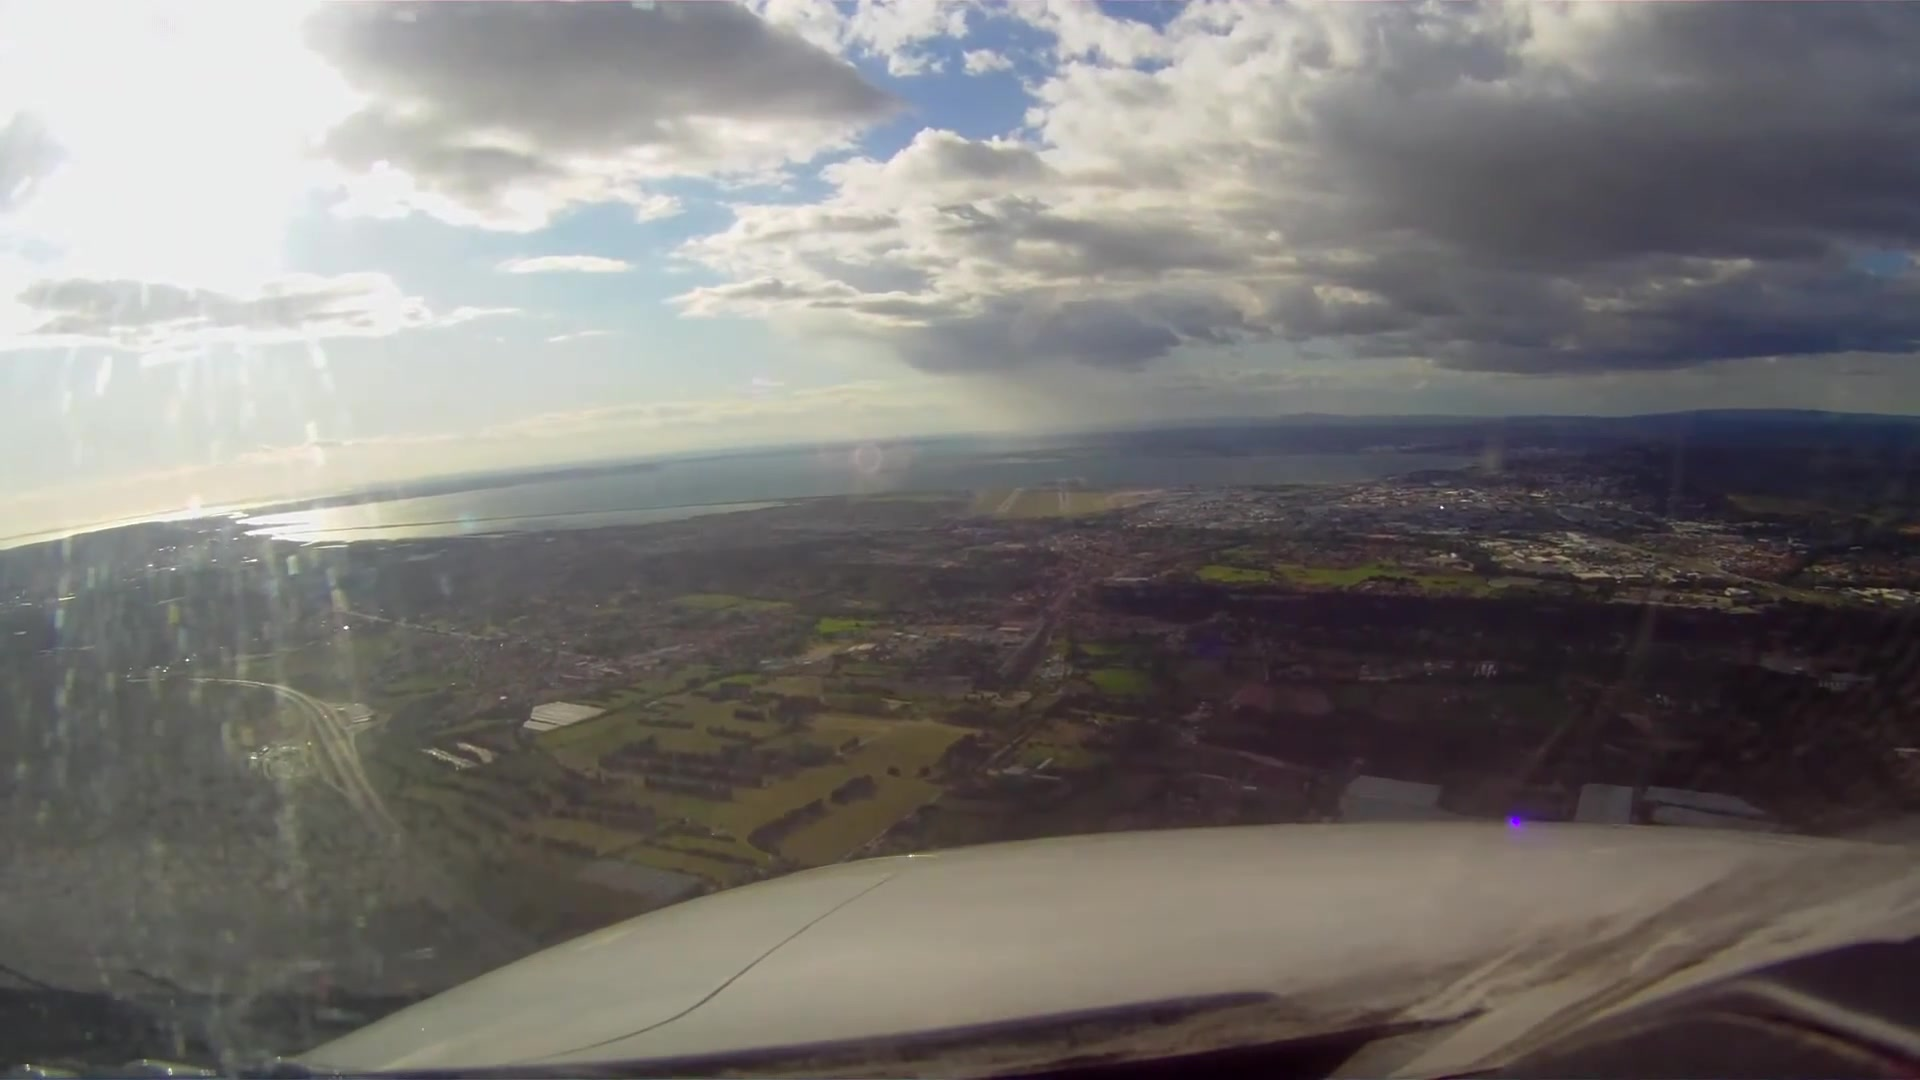runway: (996, 487, 1025, 514), (1058, 487, 1069, 513)
